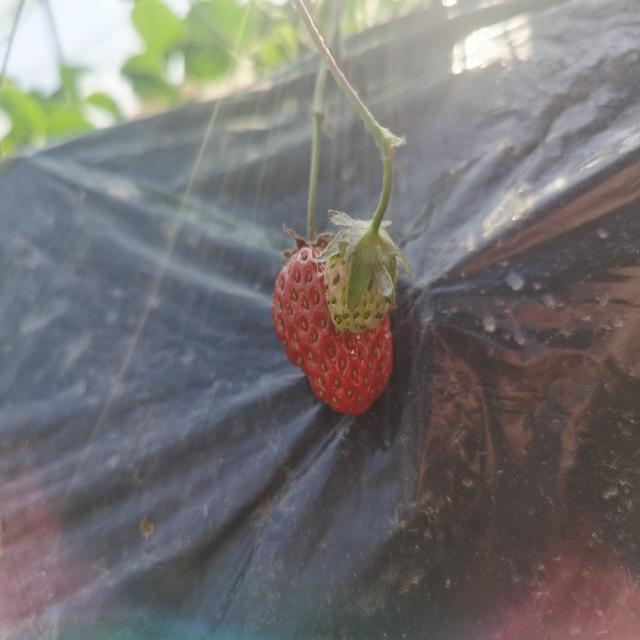stem: (308, 173, 317, 246)
strawberry: (272, 238, 393, 416)
